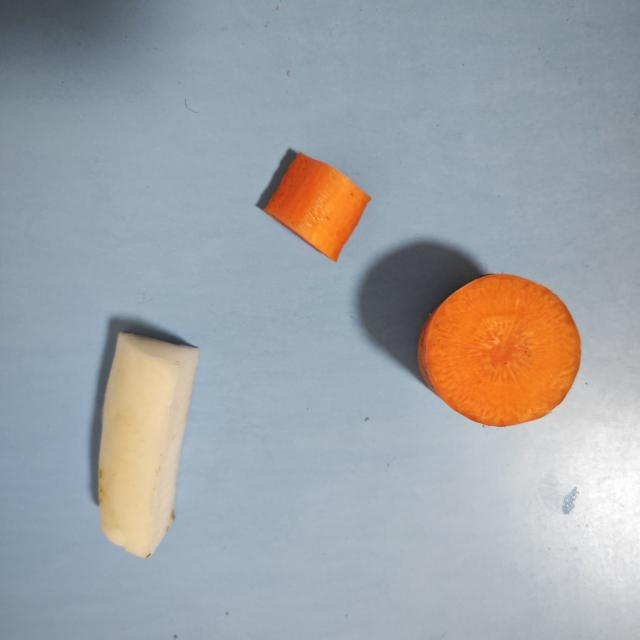-Kitchen waste - carrot-: (414, 265, 586, 429), (256, 144, 378, 259)
-Kitchen waste - white radish-: (92, 319, 203, 556)
